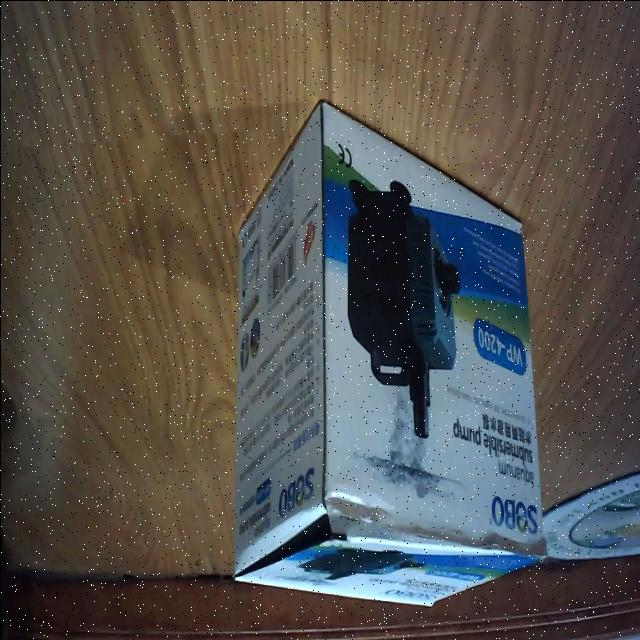SOBO_WP_4200: (233, 98, 547, 618)
